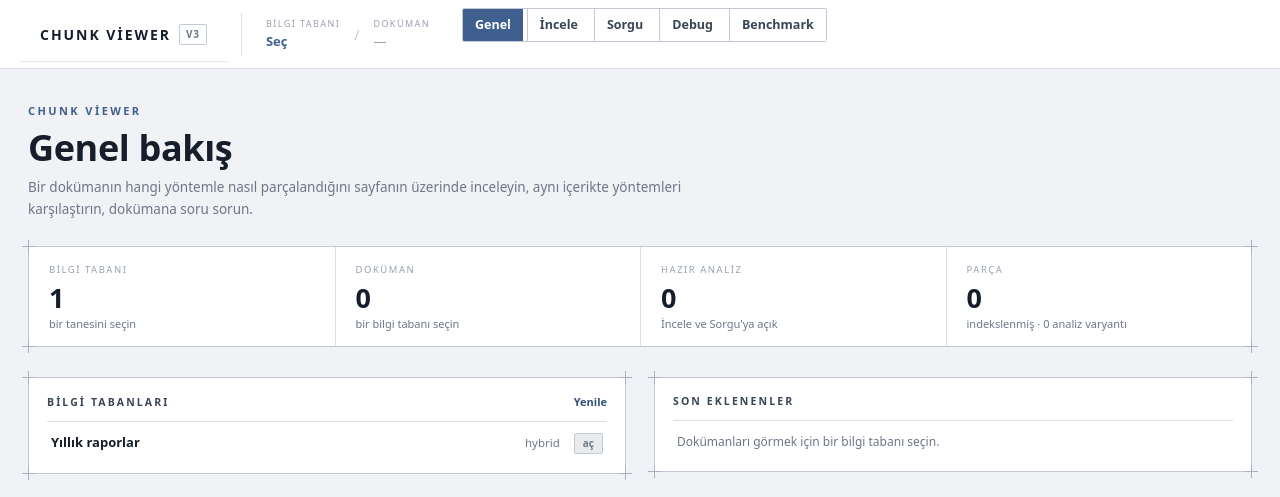
Viewer › says an analysis is still being prepared instead of showing nothing
Click the tab "İncele".
click(558, 25)  # box [527, 9, 590, 41]
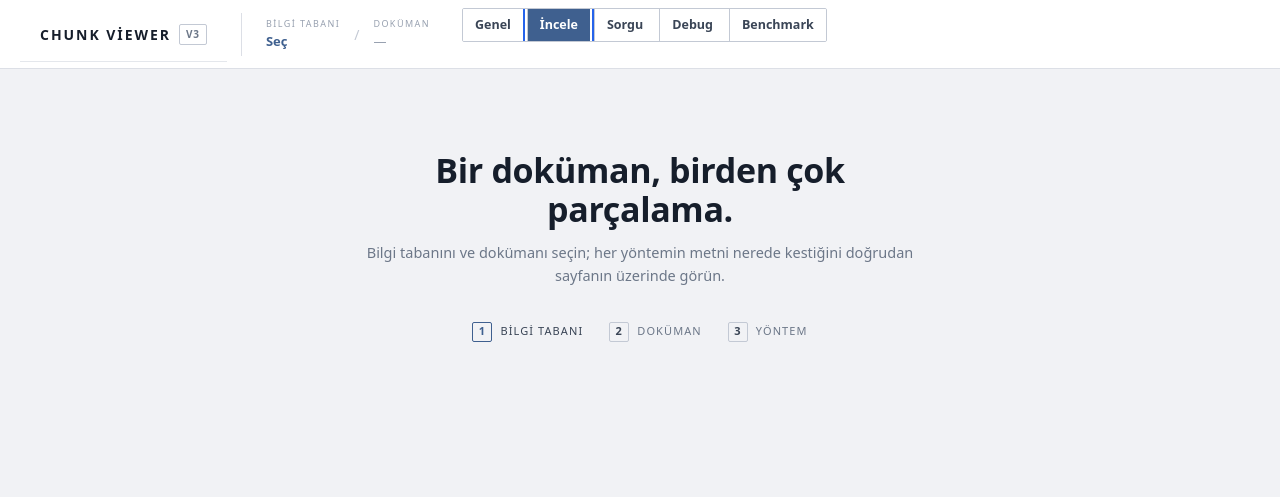
Click the button "Bilgi tabanı Seç".
click(303, 34)  # box [256, 12, 350, 56]
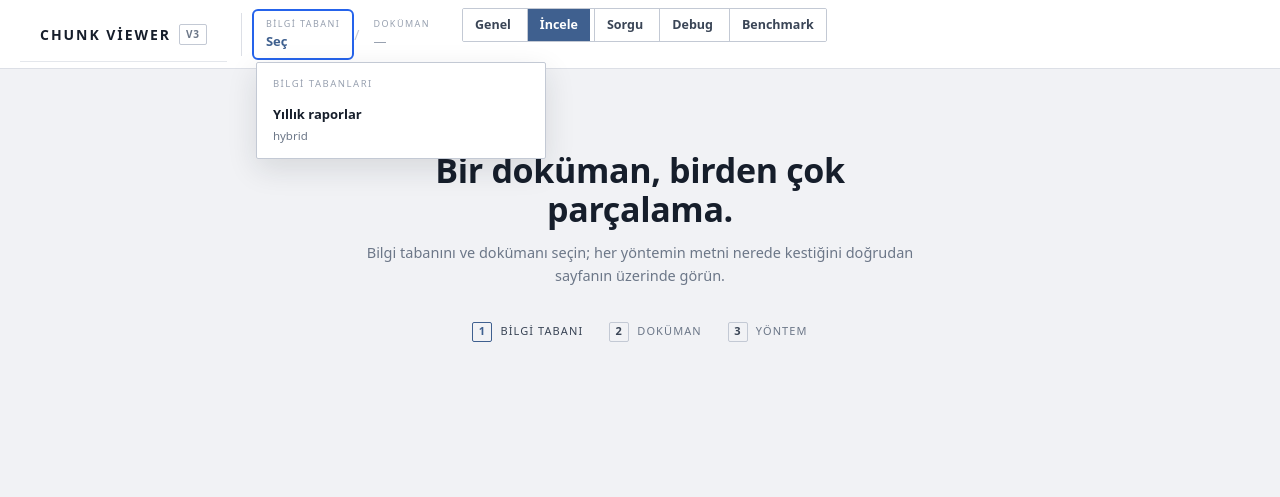
Click the text "Yıllık raporlar".
click(317, 114)  # box [273, 105, 362, 123]
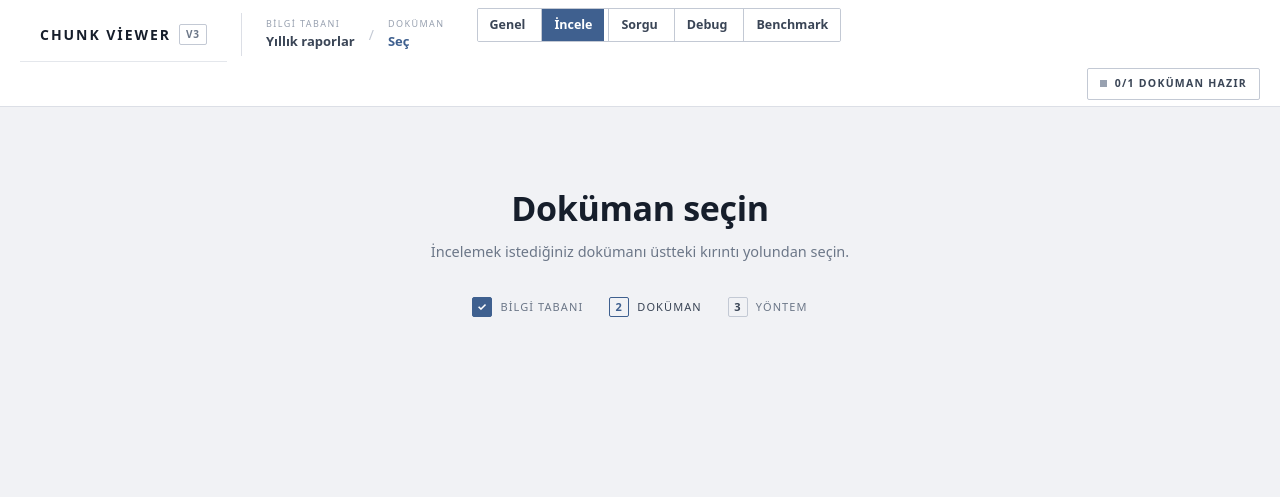
Click the button "Doküman Seç".
click(416, 34)  # box [378, 12, 454, 56]
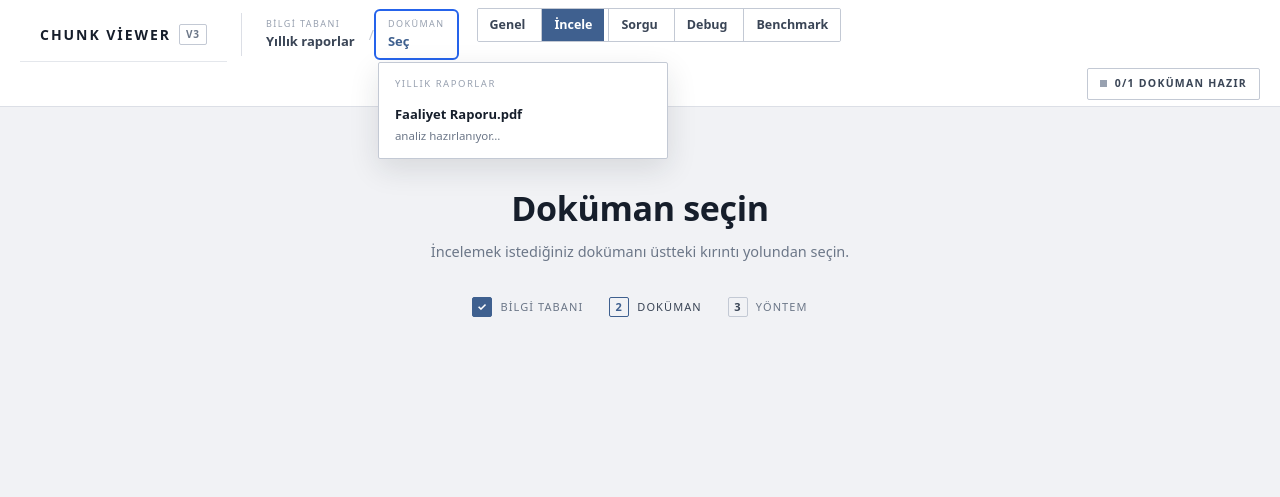
Click the text "Faaliyet Raporu.pdf".
click(458, 114)  # box [395, 105, 522, 123]
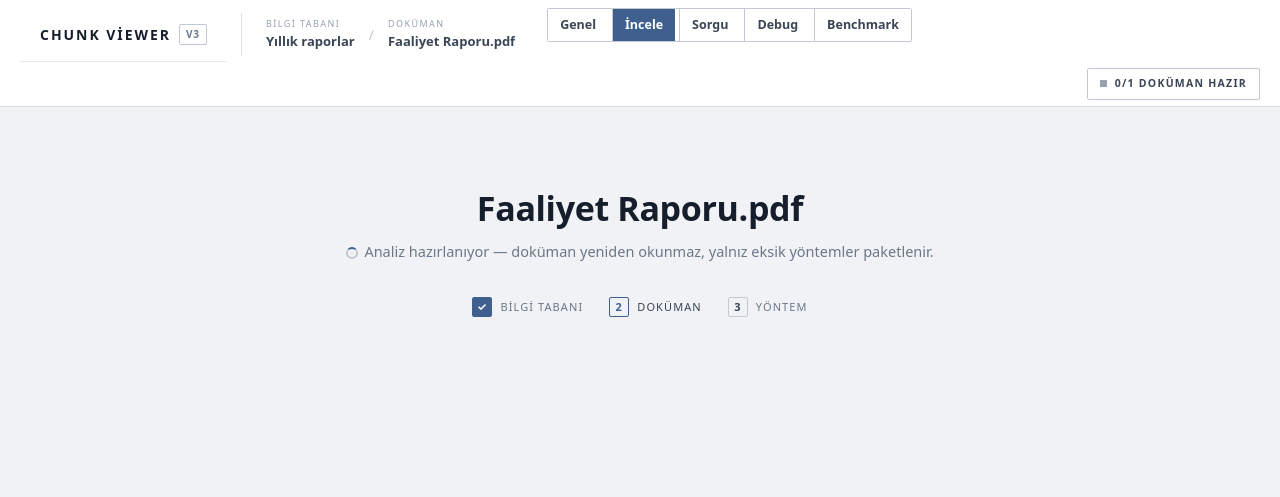
Expected: the text "Analiz hazırlanıyor" is shown, [364, 241, 934, 261]
